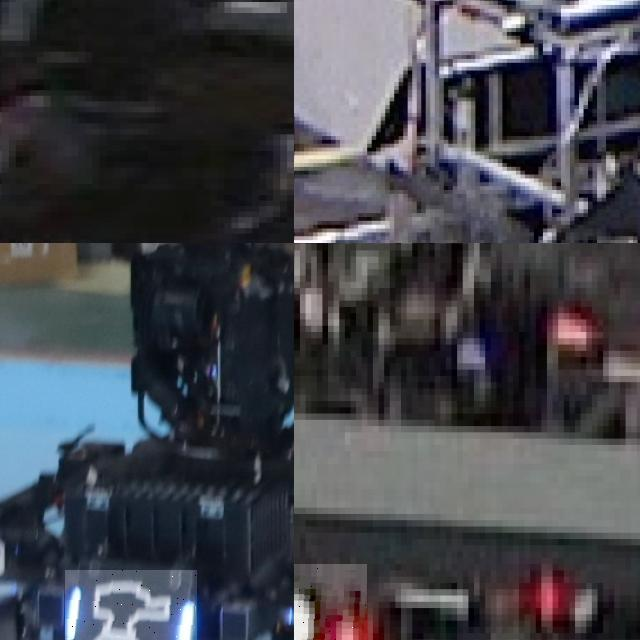Bs: (65, 570, 197, 640)
R3: (294, 564, 367, 640)
